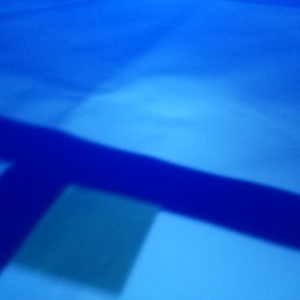bottom_right: (28, 147, 205, 255)
top_left: (1, 101, 96, 189)
